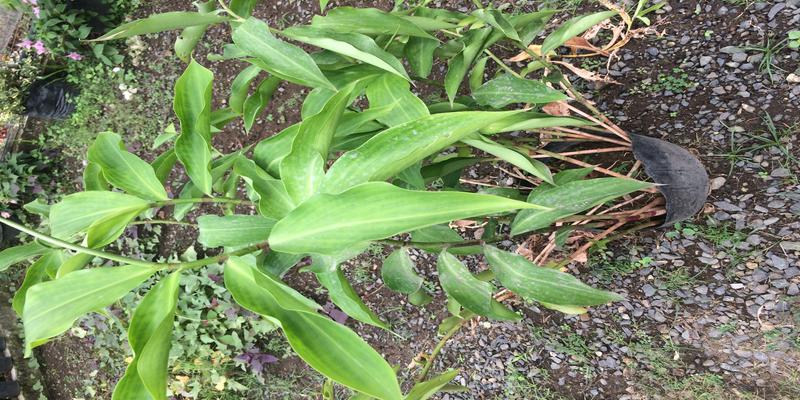Insulin: (150, 21, 633, 318)
